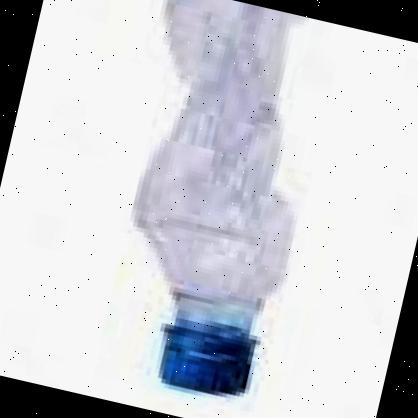bottle: (66, 0, 344, 413)
cap: (146, 311, 268, 411)
